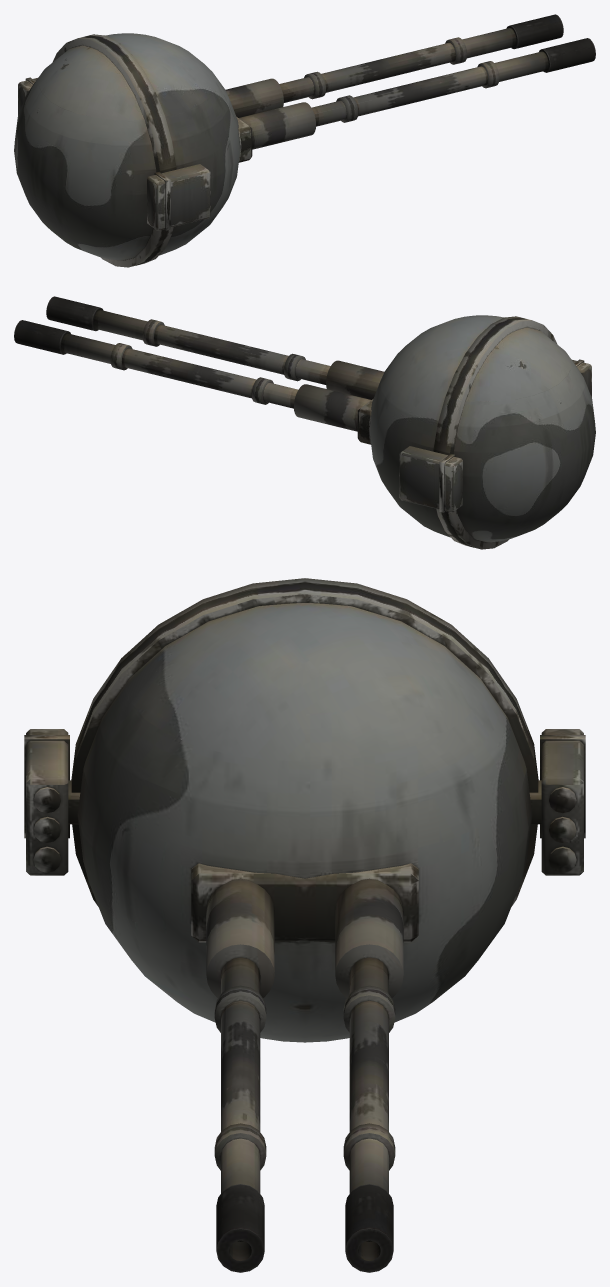
The model's file is turret_kit_tail_ball_t1_shark.glb.
3 renders of one model, top to bottom at view 1: azimuth 30°, elevation 25°; view 2: azimuth 150°, elevation 25°; view 3: azimuth 270°, elevation 25°, orthographic. The views are drawn at different scales.
Parts seen in each view (by area): view 1: turret_tail_ball_t1, pods; view 2: turret_tail_ball_t1, pods; view 3: turret_tail_ball_t1, pods.
Part boxes in pixels (x1,y1,x2,y2): turret_tail_ball_t1: (14, 14, 595, 267); pods: (18, 77, 210, 230); turret_tail_ball_t1: (14, 296, 595, 549); pods: (399, 359, 591, 512); turret_tail_ball_t1: (71, 578, 538, 1272); pods: (24, 729, 585, 875).
Size of the model in its own units: 1.66 by 0.62 by 0.7402.
2 materials, 2 textured.
